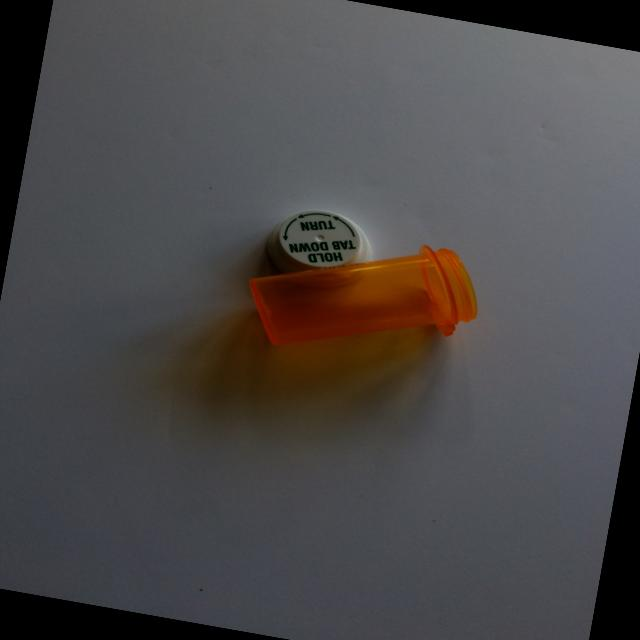Plastic: (220, 154, 496, 390)
